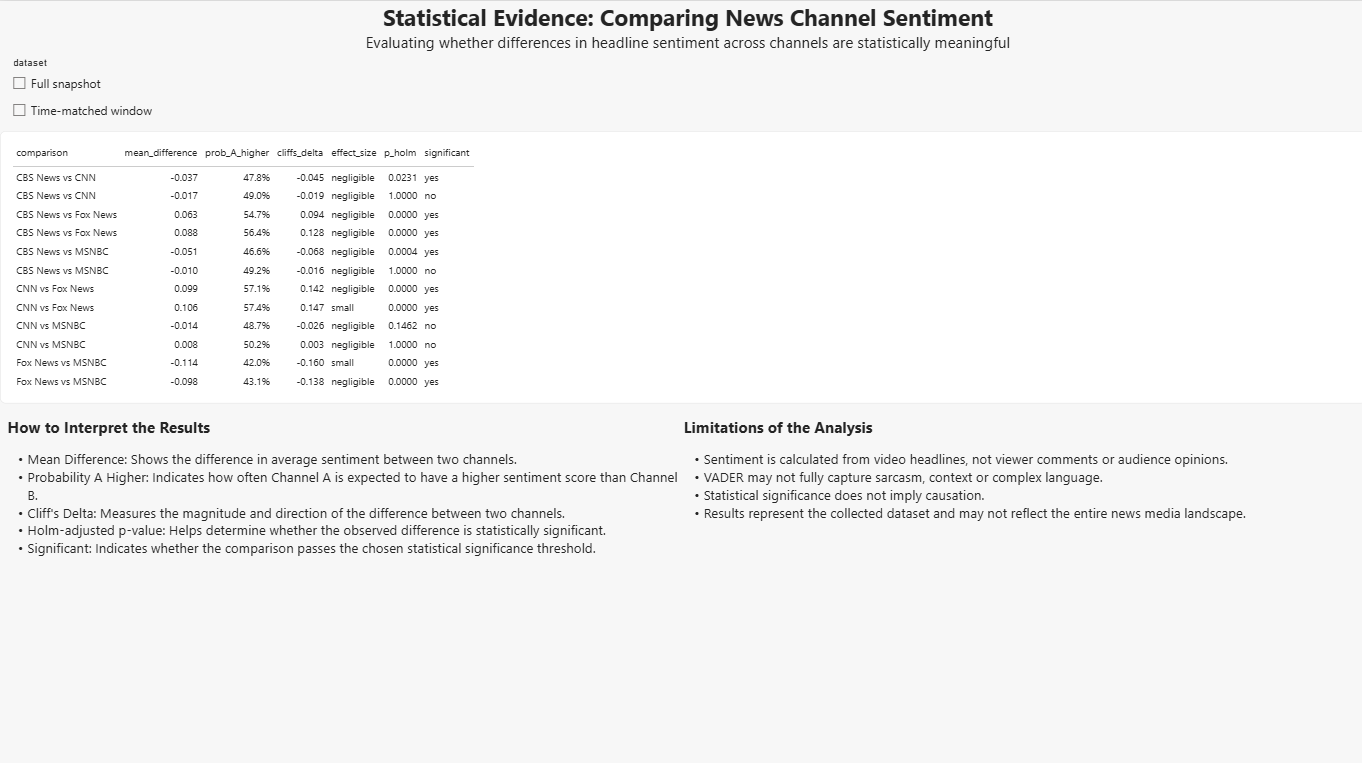

The dashboard page shown, as its layout file describes it:
{"tool":"powerbi","page":{"name":"Statistical Evidence","canvas":[1920,1080],"ordinal":3},"visuals":[{"type":"textbox","box":[10,0,1910,78],"z":0},{"type":"slicer","fields":{"Values":["stat_pairwise.dataset"]},"box":[10,78,1910,104],"z":1},{"type":"tableEx","fields":{"Values":["stat_pairwise.comparison","stat_pairwise.mean_difference","stat_pairwise.prob_A_higher","stat_pairwise.cliffs_delta","stat_pairwise.effect_size","stat_pairwise.p_holm","stat_pairwise.significant"]},"box":[0,182.5,1919.3,382.5],"z":2},{"type":"textbox","box":[10.5,564.9,949.1,235.1],"z":3},{"type":"textbox","box":[959.6,564.9,959.6,235.1],"z":4}]}

Visuals, with their boxes in screenshot pixels (x1, y1, x2, y2), scaled from the page's 1920x1080 canvas onto the 1362x763 screenshot:
textbox: x1=7, y1=0, x2=1361, y2=55
slicer - stat_pairwise.dataset: x1=7, y1=55, x2=1361, y2=129
tableEx - stat_pairwise.comparison x stat_pairwise.mean_difference: x1=0, y1=129, x2=1361, y2=399
textbox: x1=7, y1=399, x2=681, y2=565
textbox: x1=681, y1=399, x2=1361, y2=565
